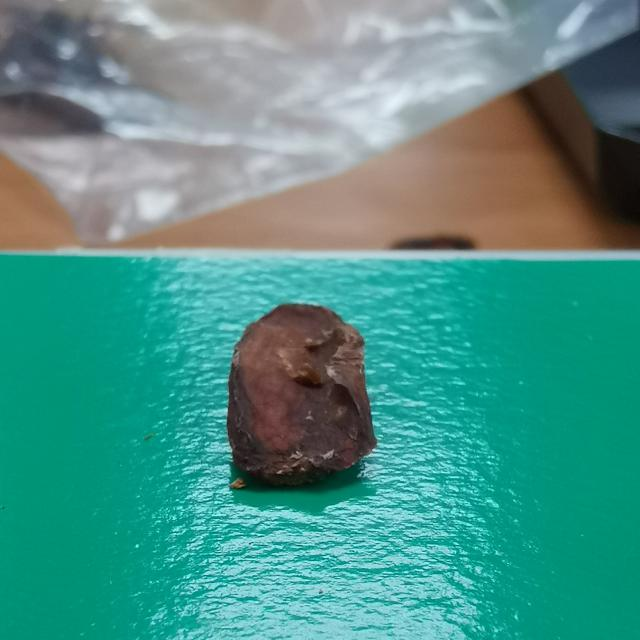Flat_cocoabeans: (114, 267, 460, 513)
